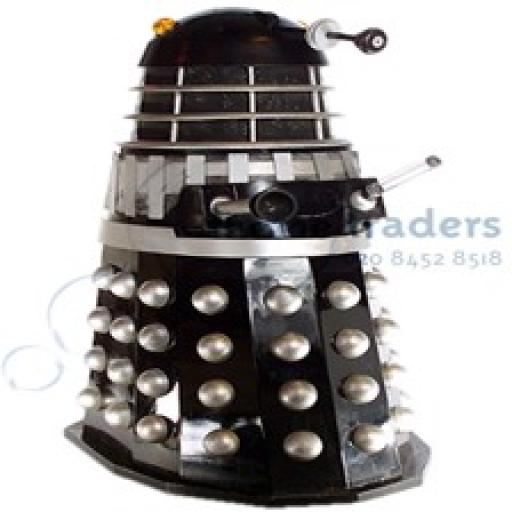dalek: (62, 10, 436, 508)
